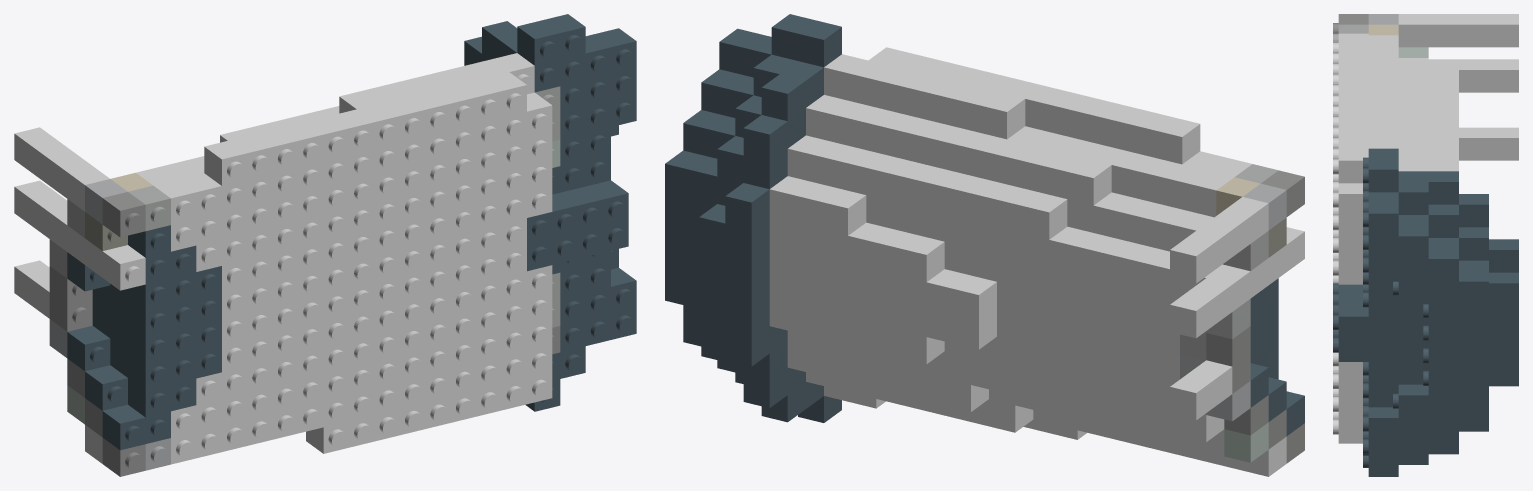
Rendered from full.glb.
The picture shows the model from 3 angles, left to right: view 1: azimuth 30°, elevation 25°; view 2: azimuth 150°, elevation 25°; view 3: azimuth 270°, elevation 25°; orthographic projection. The views are drawn at different scales.
Parts seen in each view (by area): view 1: world; view 2: world; view 3: world.
Boxes of the visible parts, <box> form: world: <box>14,14,636,476</box>; world: <box>665,14,1304,476</box>; world: <box>1333,14,1518,476</box>.
Size of the model in its own units: 168 by 112 by 59.4.
